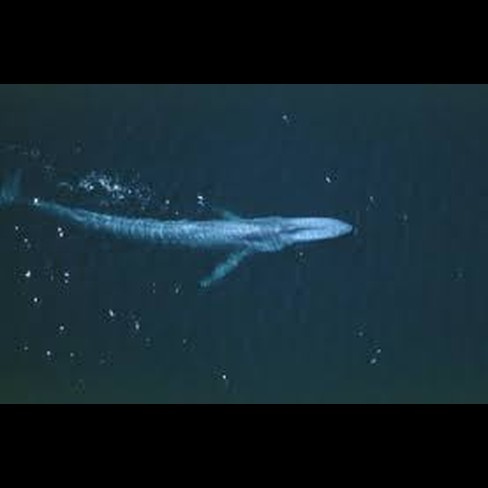bluewhale: (2, 165, 361, 296)
